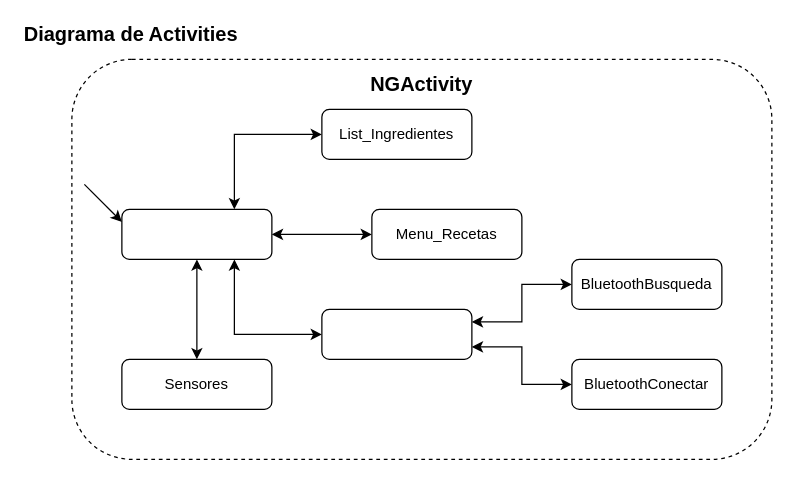
This 794x481 diagram has some shape labels left out. The shapes that lost their labels are listed below. From the top down, each one's box as (x1, y1, x2, y2) in pixels, then its label:
(121, 208, 272, 259): MainActivity
(321, 308, 472, 359): BluetoothMenu
